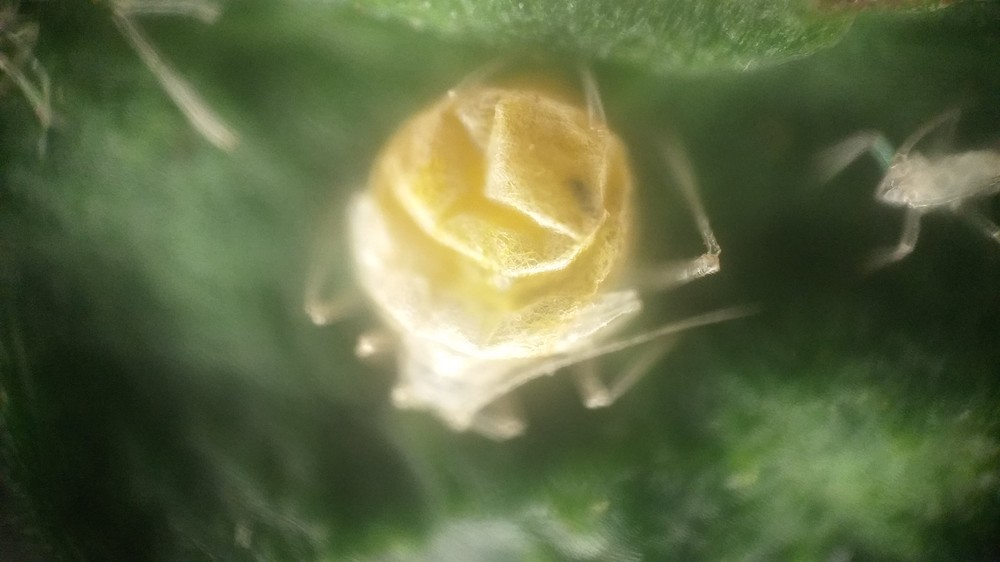Pulgon: (265, 41, 750, 453)
